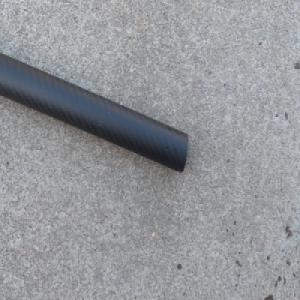LuggagePart: (0, 48, 189, 175)
